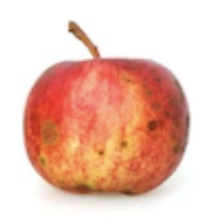apple: (1, 37, 197, 216)
